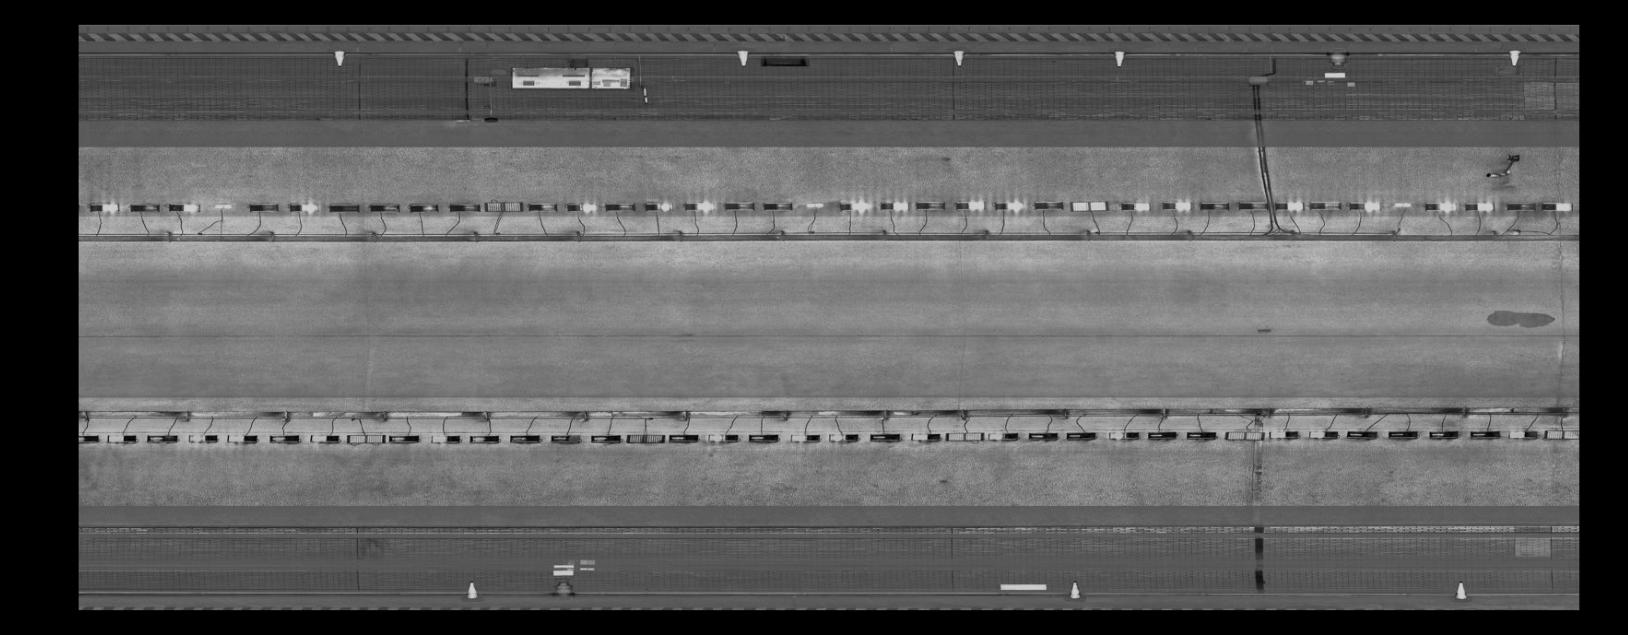light: (1221, 426, 1267, 443), (1066, 197, 1111, 214), (345, 430, 388, 446), (623, 430, 669, 445), (943, 429, 986, 444), (482, 198, 524, 214), (836, 196, 873, 214), (1541, 425, 1578, 443), (305, 430, 344, 446), (1159, 197, 1195, 214), (1119, 197, 1156, 214), (547, 431, 584, 447), (507, 430, 543, 446), (428, 430, 464, 446), (101, 431, 139, 446), (991, 196, 1026, 213), (866, 429, 903, 444), (404, 199, 443, 214), (704, 430, 743, 444), (906, 427, 943, 443), (825, 429, 862, 444), (224, 430, 261, 445), (143, 431, 180, 446), (445, 199, 484, 214), (1104, 427, 1142, 442), (386, 431, 422, 446), (1270, 196, 1307, 211), (325, 199, 362, 214), (246, 199, 283, 214), (1182, 427, 1219, 442), (1143, 427, 1181, 442), (1061, 427, 1098, 442), (87, 199, 121, 215), (267, 431, 301, 446), (164, 199, 203, 213), (1422, 199, 1459, 214), (912, 197, 948, 212), (365, 199, 402, 214), (286, 199, 322, 214), (185, 431, 221, 445), (1504, 426, 1543, 440), (468, 431, 501, 446), (1030, 197, 1065, 212), (876, 198, 912, 213), (564, 199, 599, 214), (1307, 197, 1345, 211), (787, 431, 824, 444), (1383, 427, 1422, 440), (585, 432, 624, 444), (1344, 427, 1380, 441), (664, 431, 701, 444), (1345, 198, 1383, 211), (1466, 427, 1504, 440), (681, 199, 716, 213), (126, 200, 161, 214), (1305, 427, 1340, 441), (1025, 429, 1060, 442), (745, 431, 781, 444), (1538, 199, 1575, 212), (1461, 199, 1498, 212), (525, 199, 560, 213), (985, 429, 1020, 442), (1503, 199, 1540, 212), (953, 198, 986, 212), (760, 199, 795, 212), (722, 199, 757, 212), (602, 199, 637, 212), (1426, 427, 1461, 440), (1266, 427, 1301, 440), (1233, 199, 1270, 211), (1196, 199, 1232, 211), (642, 199, 675, 212), (78, 430, 100, 443), (210, 200, 235, 211), (803, 200, 826, 209), (1391, 199, 1416, 206)
